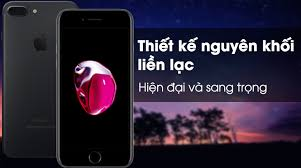iphone: (52, 3, 138, 168)
iphone7: (52, 3, 138, 168)
